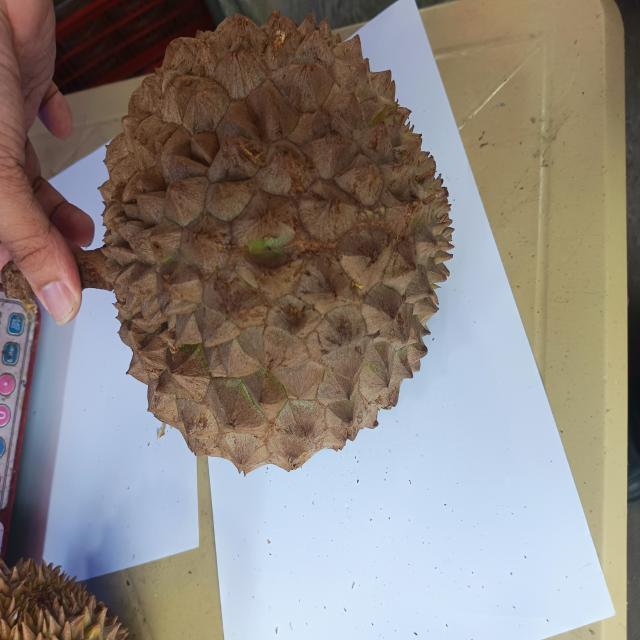mature: (97, 10, 454, 473)
